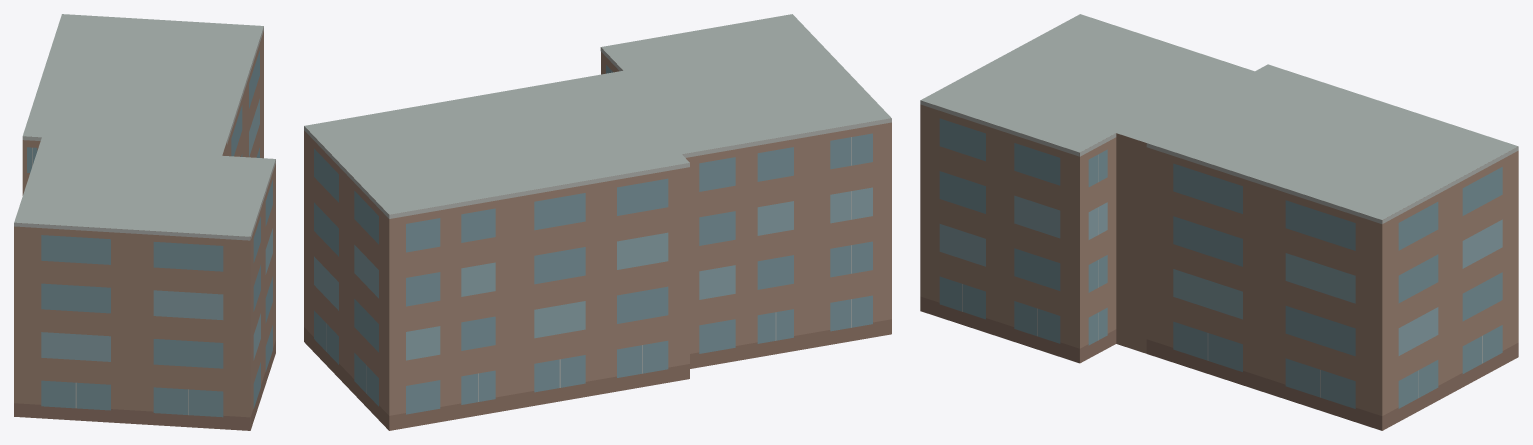
The model's file is survey-upis-32660568.glb.
3 renders of one model, left to right at view 1: azimuth 30°, elevation 25°; view 2: azimuth 150°, elevation 25°; view 3: azimuth 270°, elevation 25°, orthographic. The views are drawn at different scales.
Visible parts, largest first — view 1: survey-upis-32660568.tmp; view 2: survey-upis-32660568.tmp; view 3: survey-upis-32660568.tmp.
Boxes of the visible parts, box(x1,y1,x2,y2) form: survey-upis-32660568.tmp: box(14, 14, 275, 430); survey-upis-32660568.tmp: box(304, 14, 891, 430); survey-upis-32660568.tmp: box(920, 14, 1518, 430).
Size of the model in its own units: 26.01 by 12.4 by 31.9.
